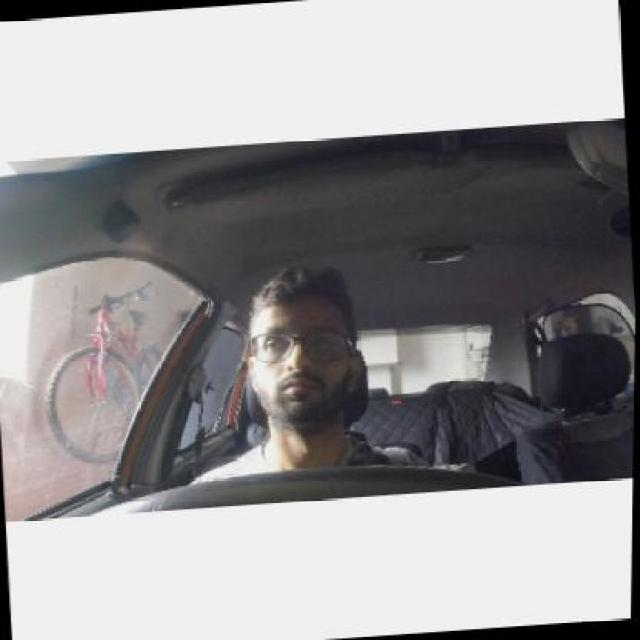person: (239, 286, 367, 426)
